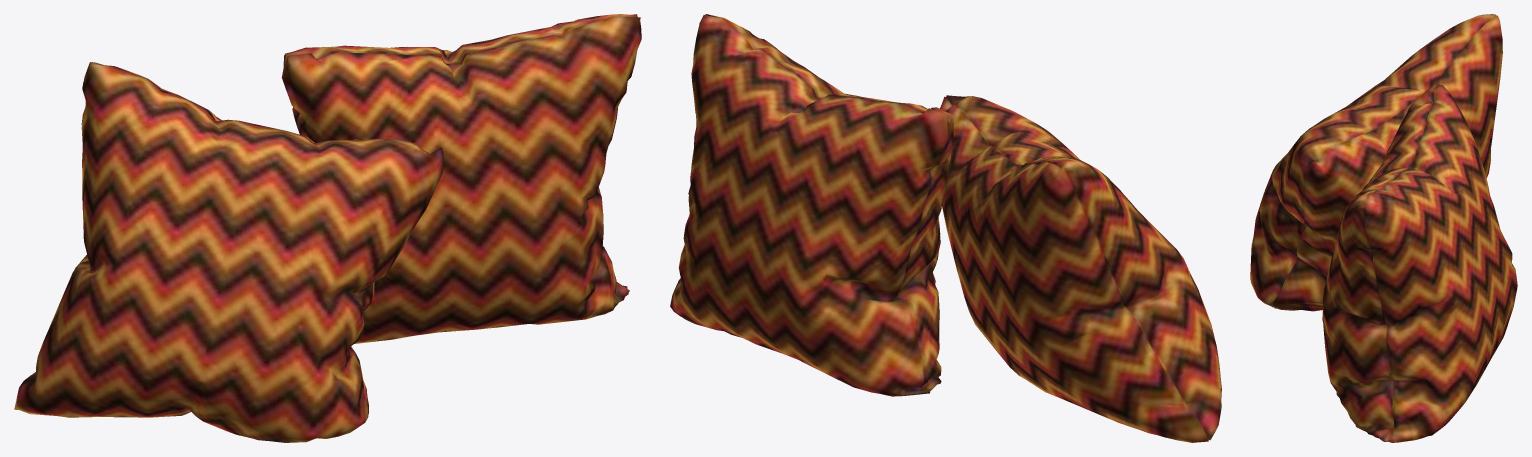
File: pillows-throw.lite.81bb8f06.glb
3 renders of one model, left to right at view 1: azimuth 30°, elevation 25°; view 2: azimuth 150°, elevation 25°; view 3: azimuth 270°, elevation 25°, orthographic. The views are drawn at different scales.
Visible parts, largest first — view 1: model; view 2: model; view 3: model.
Boxes of the visible parts, x1=… form: model: x1=14, y1=14, x2=641, y2=442; model: x1=670, y1=14, x2=1221, y2=442; model: x1=1250, y1=14, x2=1517, y2=442.
Bounding box in the file's own units: 0.9401 × 0.4501 × 0.4519.
Materials: 1 (1 with a texture image).
